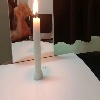fire: (35, 0, 39, 20)
